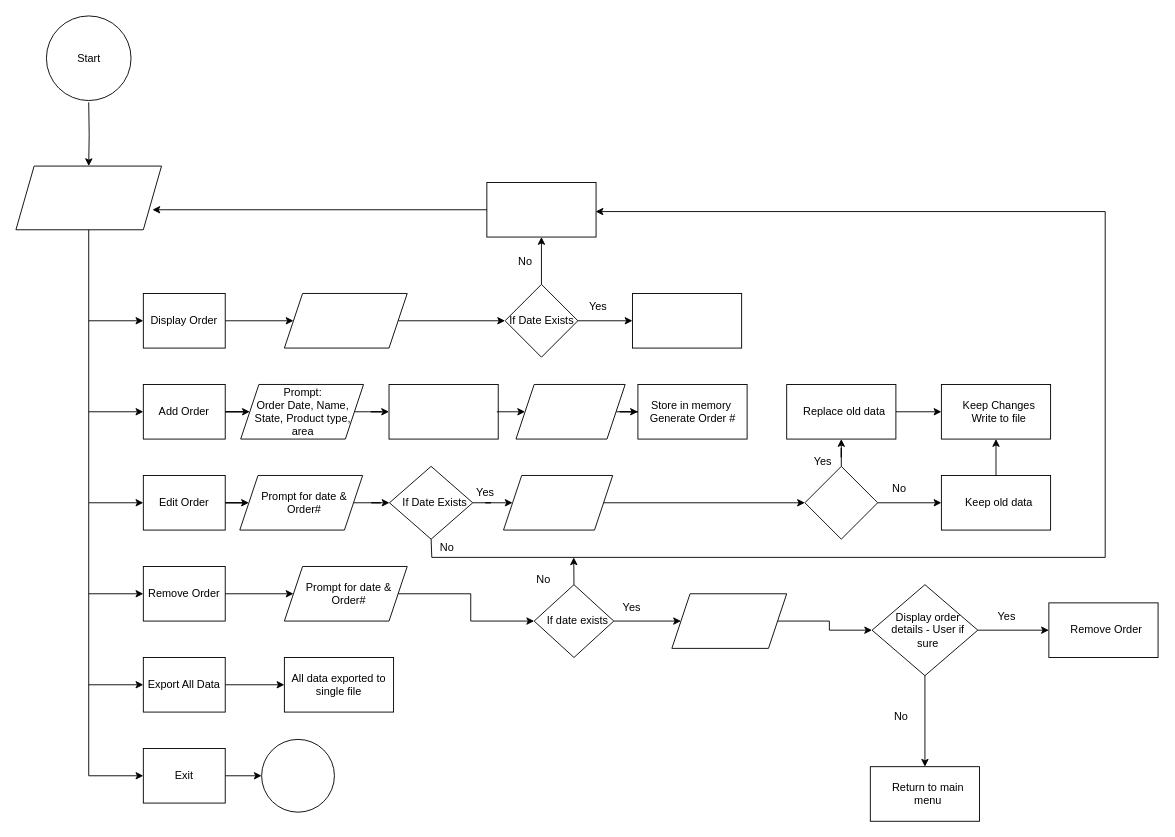
The diagram is 1175 pixels wide and 837 high, and some of its shapes have lost their labels. The centre of each missing label's shape, as x and y in pixels:
"Calculate tax and price information" goes at point 443,411.
"Display existing data Prompt for new data" goes at point 558,502.
"Display main menu - Prompt user options from 1-6" goes at point 88,197.
"Display Order information for the date" goes at point 687,320.
"Display Summary Prompt Yes/No" goes at point 570,411.
"End" goes at point 297,775.
"ERROR - This date file doesn't exist" goes at point 541,209.
"If new data entered" goes at point 841,502.
"Prompt for date" goes at point 345,320.
"Prompt for Order # to be removed" goes at point 729,620.
